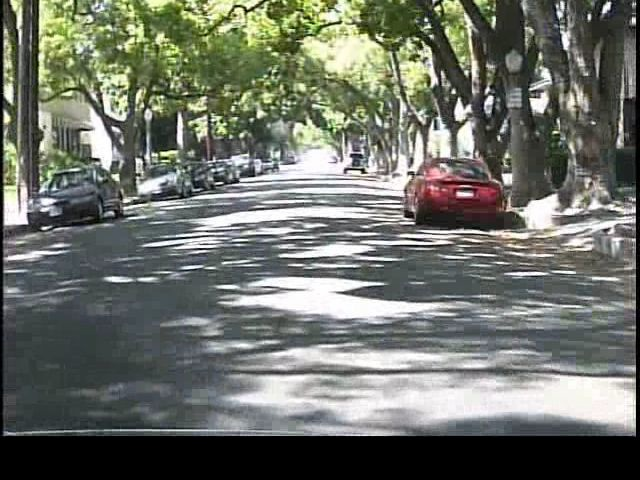person: (131, 149, 152, 192)
